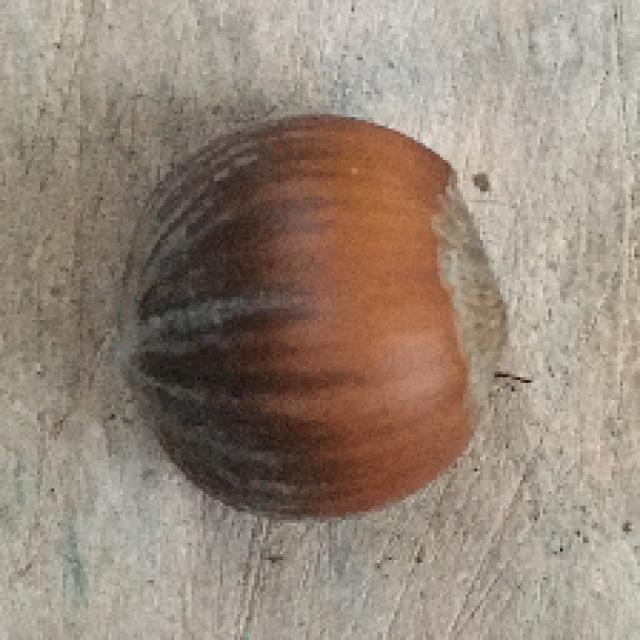DamagedHazelnut: (120, 119, 519, 519)
